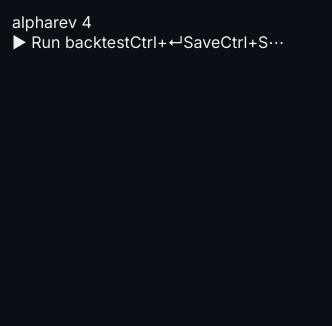
Scenario: GraphToolbar › opens the overflow menu with every graph action
This screenshot has width=332, height=326.
Click the button with test id "nb-btn-more".
click(276, 42)  # box [268,32,284,52]
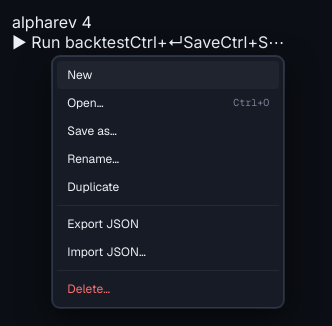
Click the menu item with test id "nb-menu-rename".
click(168, 159)  # box [57,145,279,173]
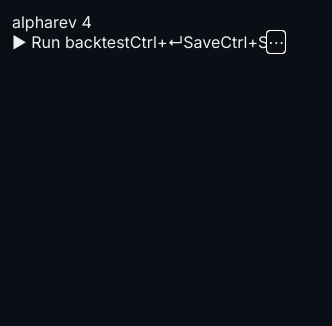
Expected: the menu with test id "nb-menu-more" is gone
